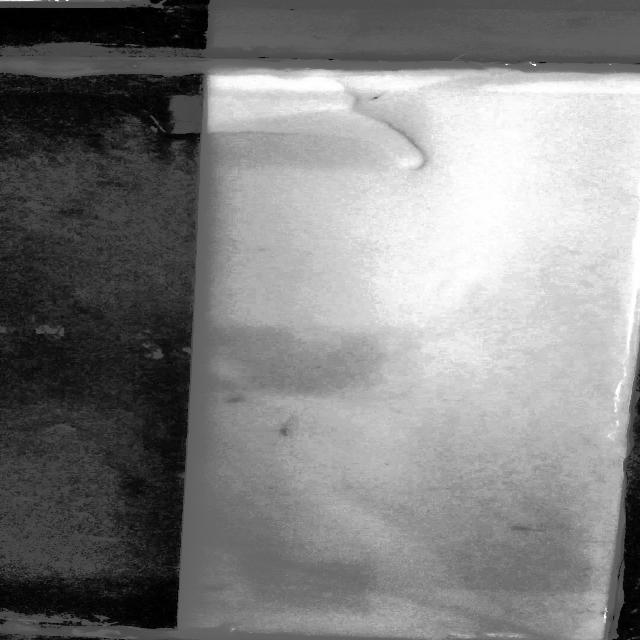shrimp: (508, 523, 542, 536), (360, 90, 392, 102), (221, 394, 244, 409), (272, 423, 290, 438)
